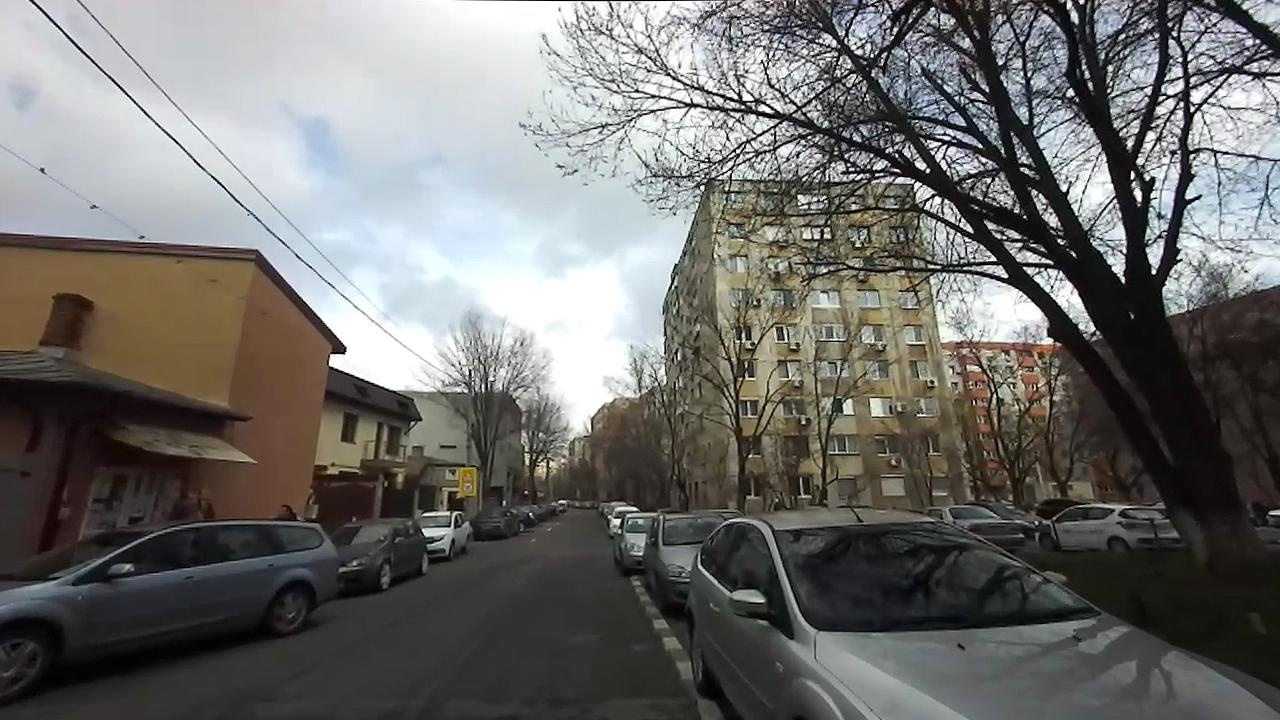pothole: (502, 690, 611, 720)
